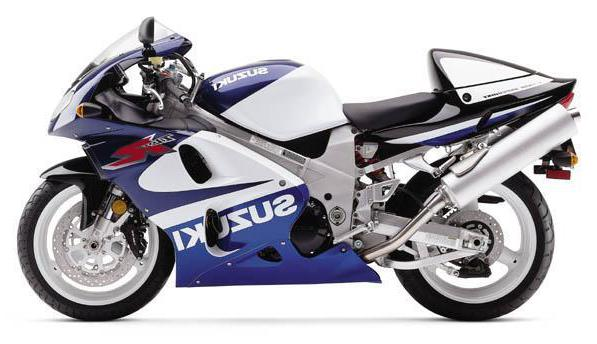motorcycle: (2, 6, 596, 335)
